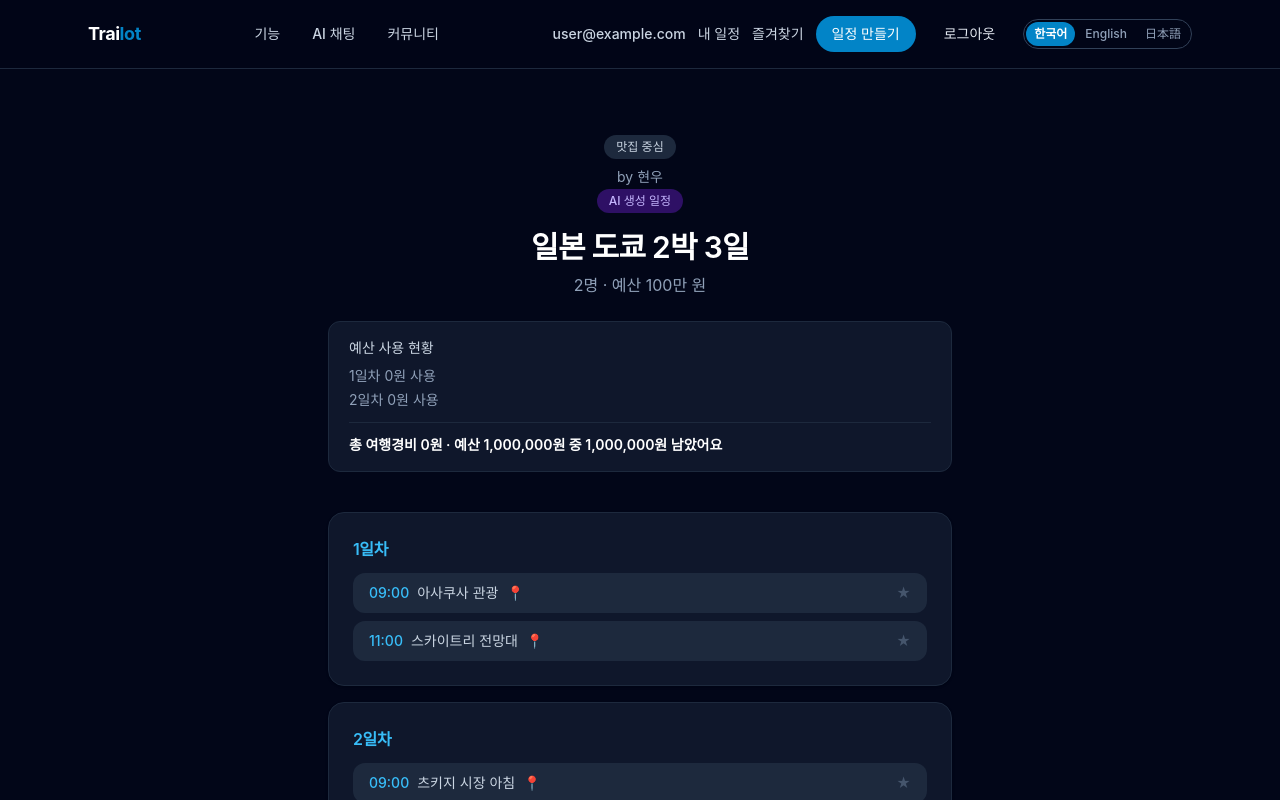
Scenario: CommunityTripDetailPage › lets me favorite a place from someone else’s itinerary
The width and height of the screenshot is (1280, 800).
Click the button named "아사쿠사 관광 즐겨찾기 추가" at (904, 593), box [896, 583, 911, 603]
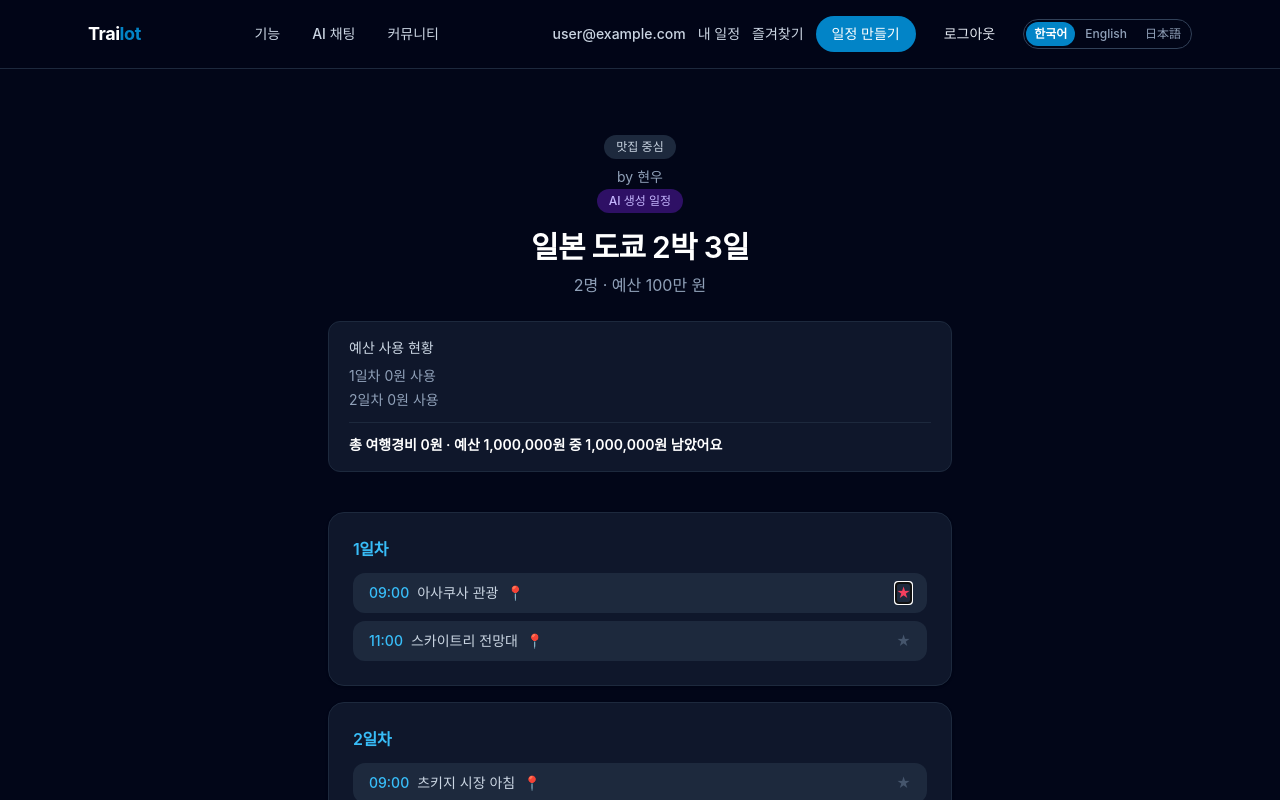
Check: the button named "아사쿠사 관광 즐겨찾기 해제" is shown, box [896, 583, 911, 603]
